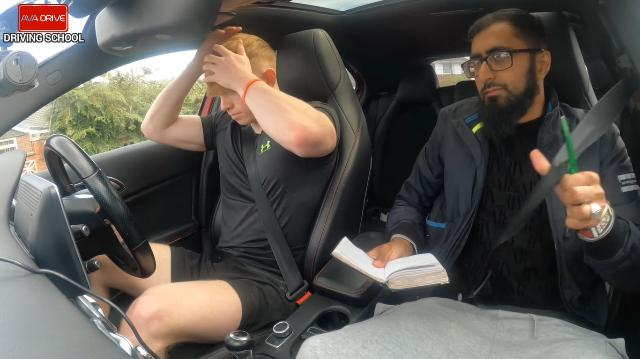seatbelt: (440, 106, 612, 326), (150, 122, 334, 294)
